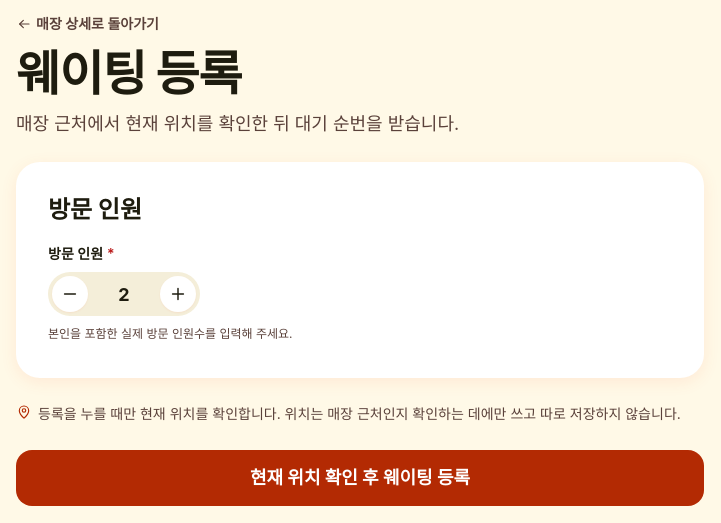
소비자 웨이팅 등록 API 연결 › 측정 위치가 VERIFIED이면 등록하고 현재 웨이팅을 다시 조회한 snapshot을 표시한다
The image size is (721, 523).
Click the button "현재 위치 확인 후 웨이팅 등록" at (360, 478), box x1=16 y1=450 x2=704 y2=506
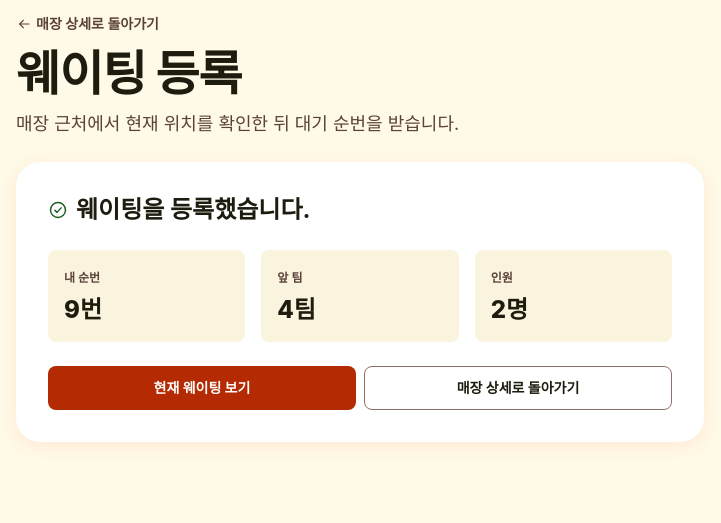
Result: the text "9번" is shown at x1=64 y1=295 x2=102 y2=324
Result: the text "4팀" is shown at x1=277 y1=295 x2=316 y2=324
